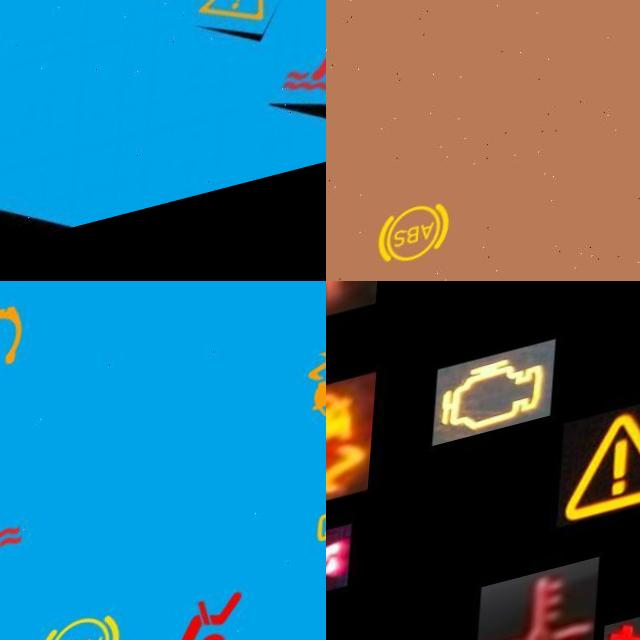Central Warning lamp: (562, 419, 640, 548)
Engine cooling system: (482, 579, 606, 640)
